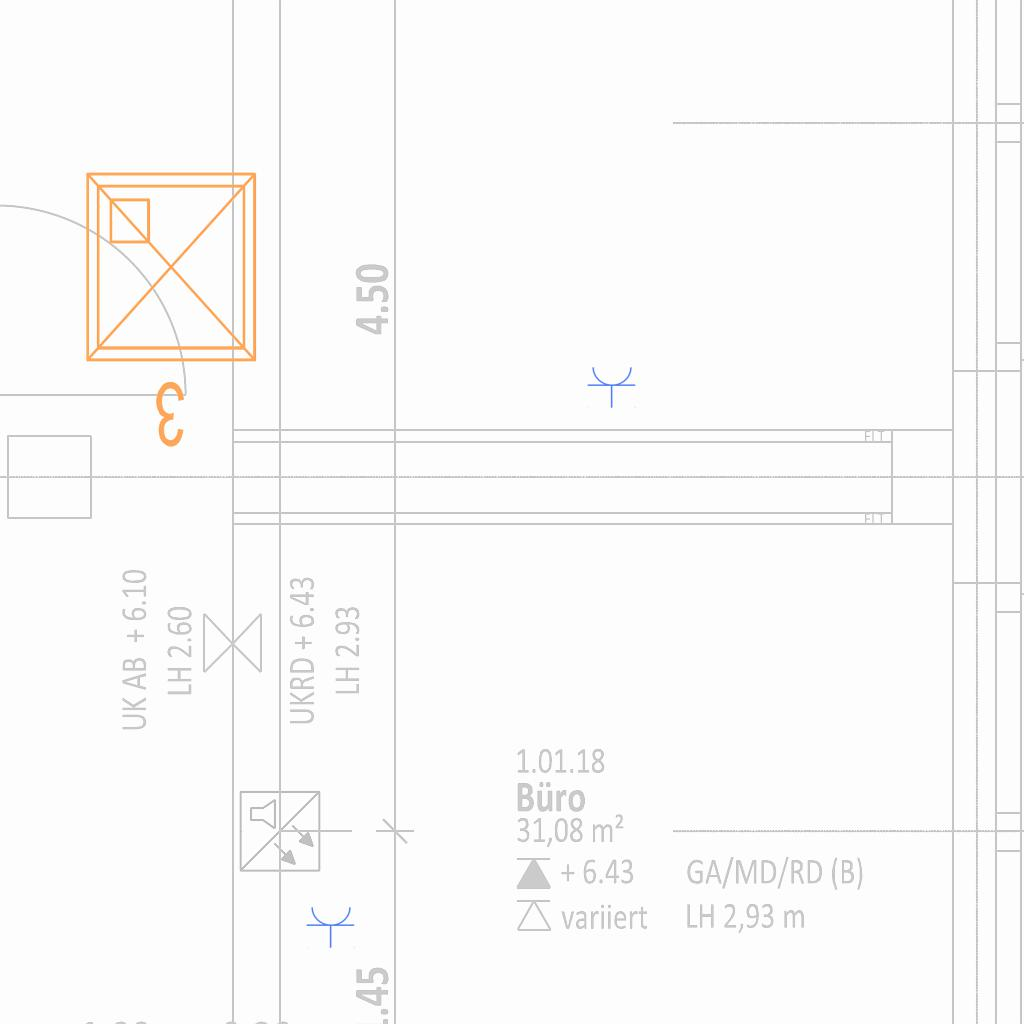Einbaudownlights_LED_Konferenzraeume: (71, 158, 279, 458)
Schukosteckdose_einfach: (306, 905, 356, 948), (587, 365, 637, 408)
